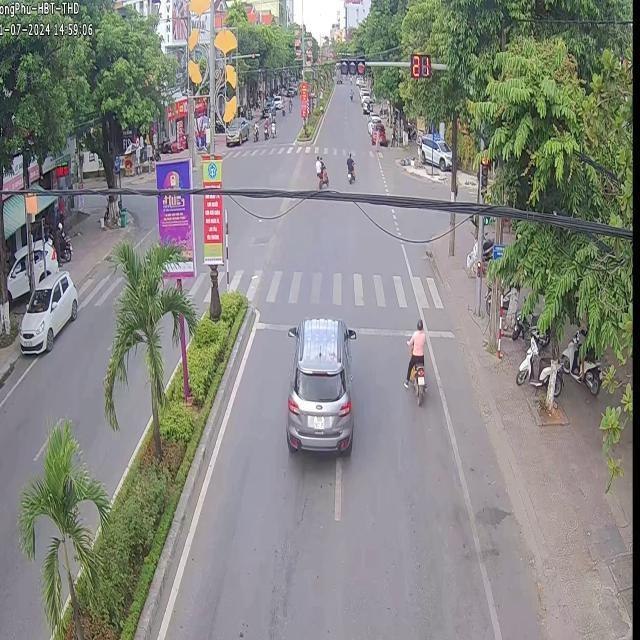car: (284, 316, 354, 454), (18, 269, 77, 351)
motobike: (409, 358, 424, 405)
red_light: (338, 56, 364, 77), (411, 57, 433, 77), (479, 154, 487, 194)
stop_line: (352, 326, 411, 336), (256, 321, 292, 329), (426, 329, 449, 336)
